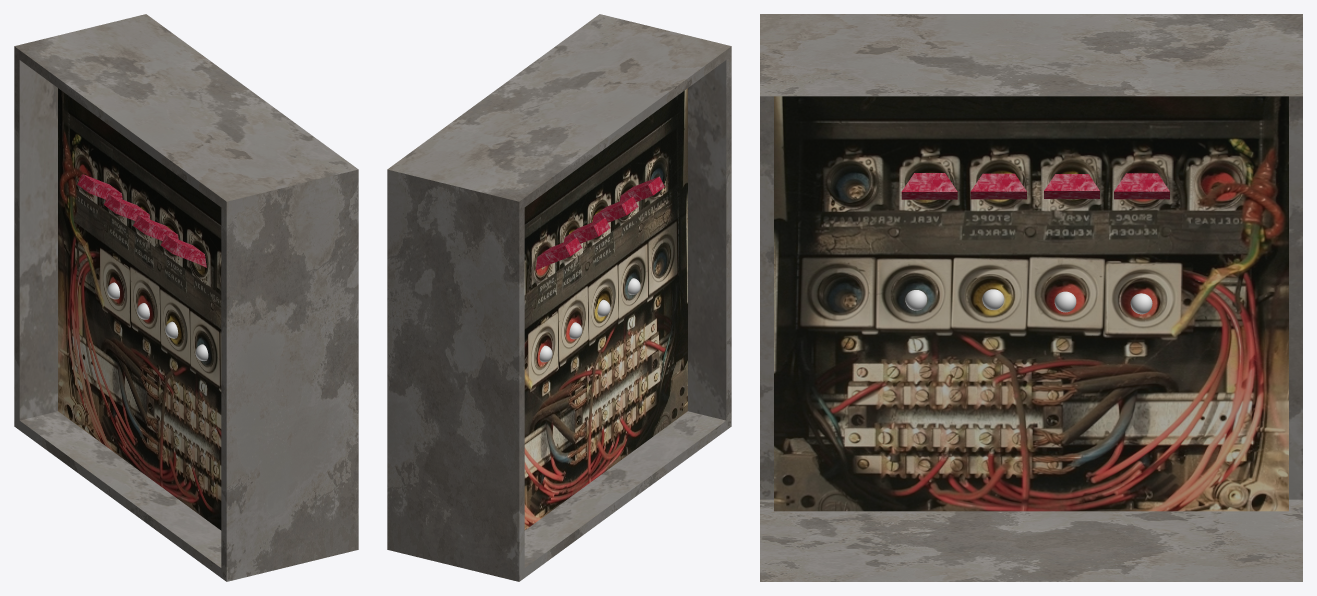
File: Fusebox.fbx
3 renders of one model, left to right at view 1: azimuth 30°, elevation 25°; view 2: azimuth 150°, elevation 25°; view 3: azimuth 270°, elevation 25°, orthographic. The views are drawn at different scales.
Parts seen in each view (by area): view 1: Box001, Box005, Box003, Box002, Box004; view 2: Box001, Box002, Box004, Box003, Box005; view 3: Box001, Box004, Box005, Box002, Box003.
Boxes of the visible parts, <box> form: Box001: <box>14,14,358,581</box>; Box005: <box>161,235,206,267</box>; Box003: <box>104,194,150,220</box>; Box002: <box>77,174,122,199</box>; Box004: <box>133,215,178,240</box>; Box001: <box>387,14,731,581</box>; Box002: <box>535,237,581,270</box>; Box004: <box>592,196,638,222</box>; Box003: <box>564,217,610,243</box>; Box005: <box>620,176,664,201</box>; Box001: <box>760,14,1302,581</box>; Box004: <box>970,173,1026,199</box>; Box005: <box>901,173,957,199</box>; Box002: <box>1114,173,1169,199</box>; Box003: <box>1044,174,1099,198</box>.
Bounding box in the file's own units: 25.7 × 70.75 × 71.66.
Materials: 2 (2 with a texture image).
